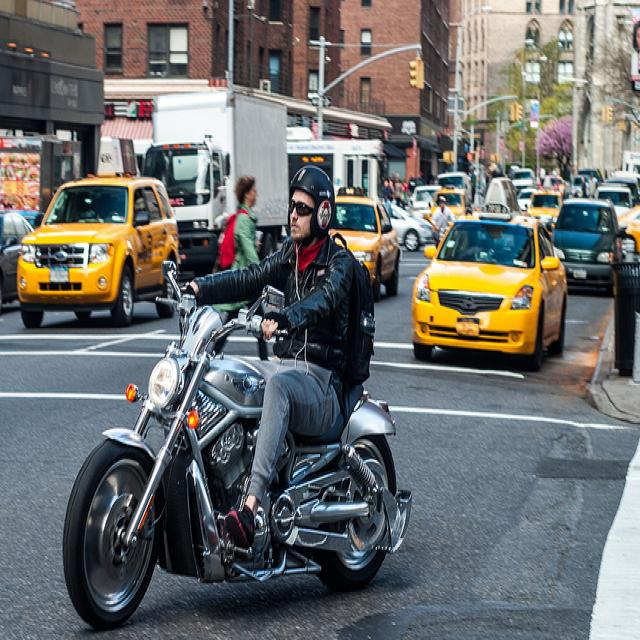motor: (65, 259, 411, 629), (434, 229, 447, 247)
